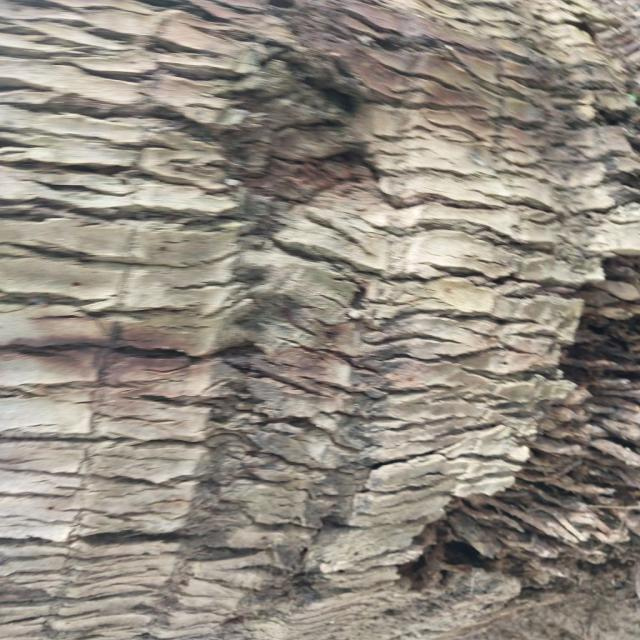stembleeding: (272, 7, 601, 142), (23, 309, 362, 409)
